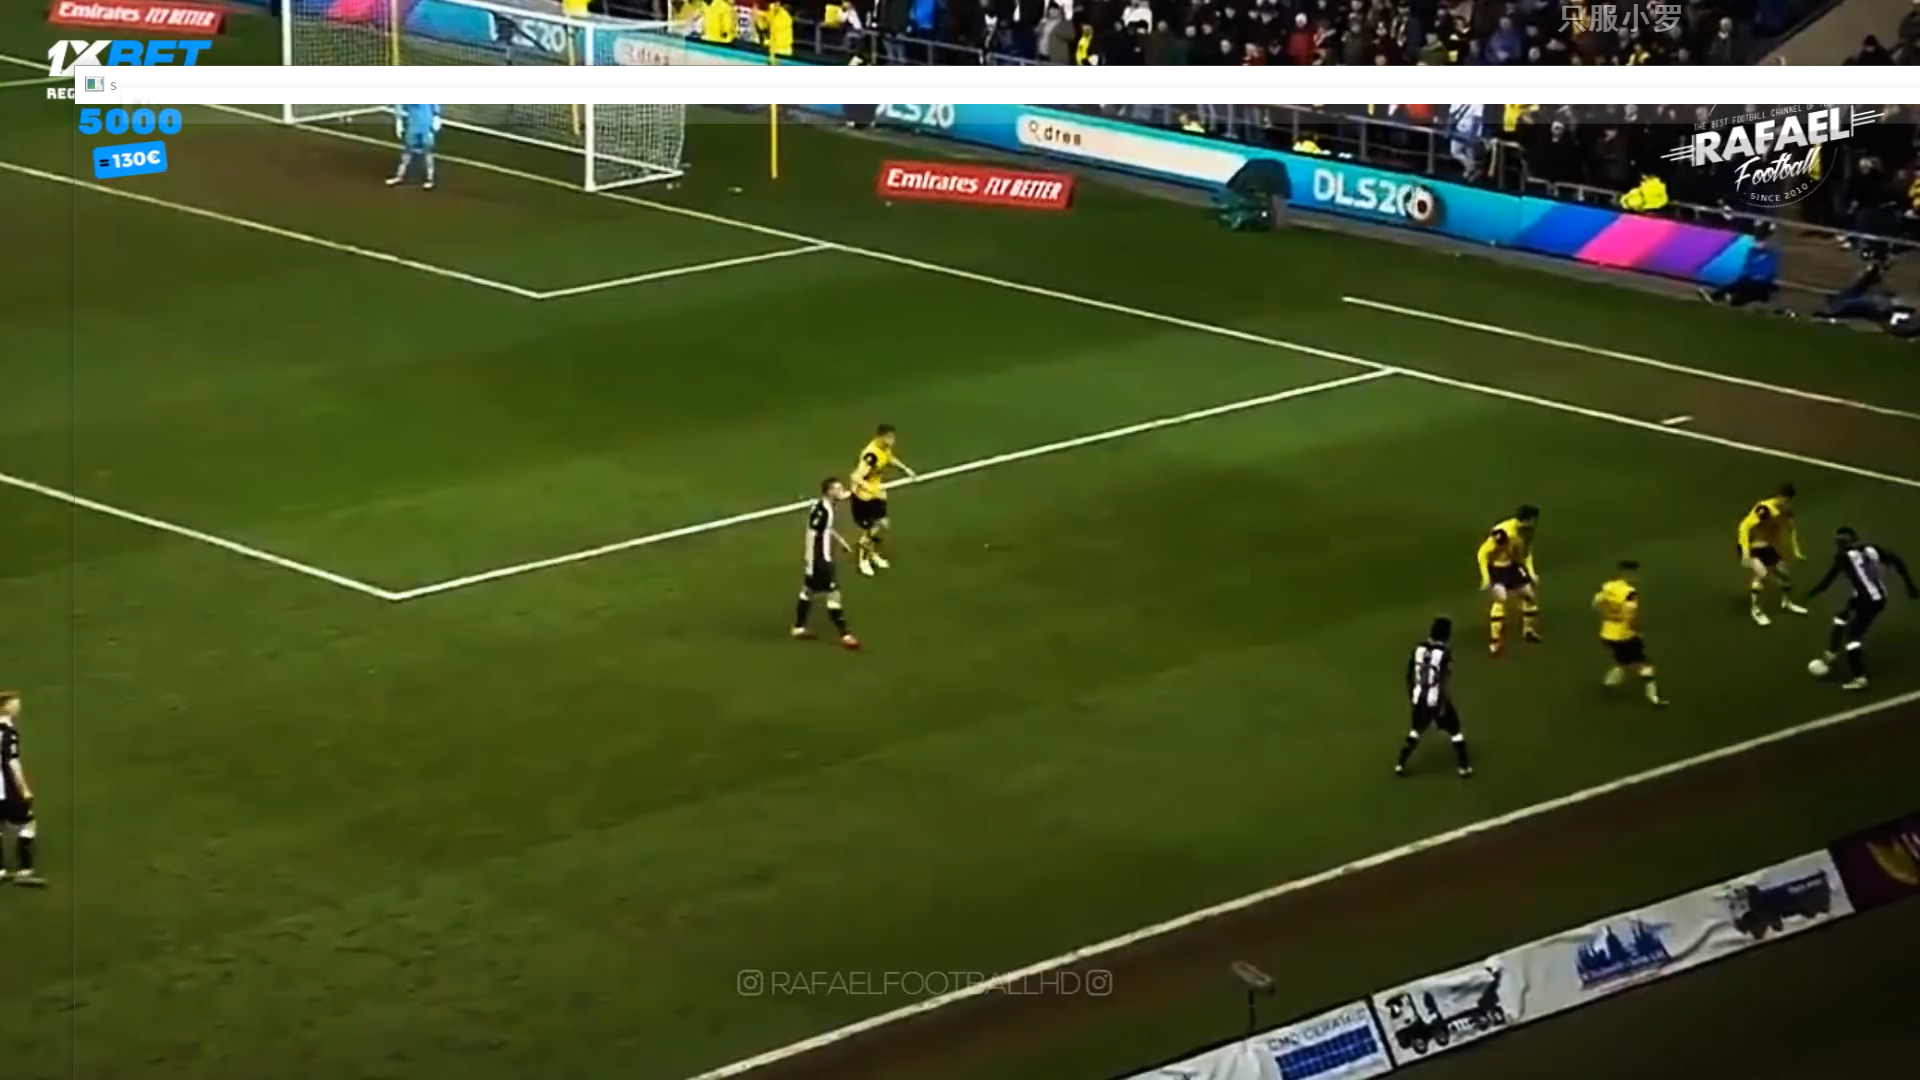ft: (1805, 657, 1829, 678)
